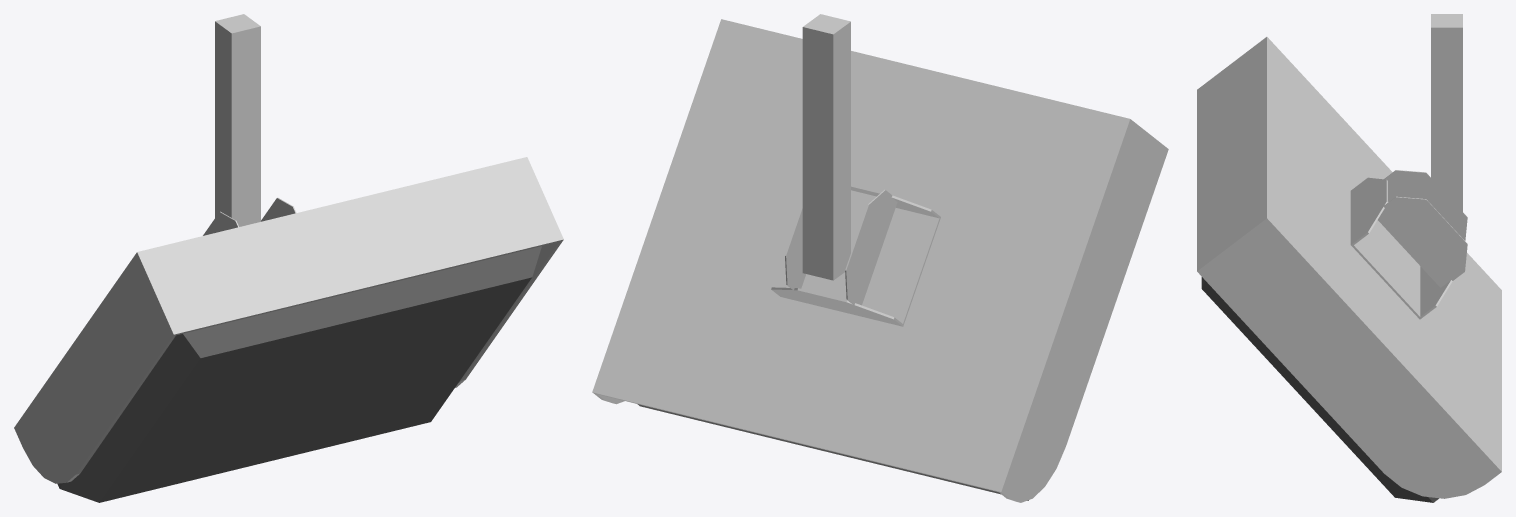
The model's file is etc_01_01.glb.
The picture shows the model from 3 angles, left to right: view 1: azimuth 30°, elevation 25°; view 2: azimuth 150°, elevation 25°; view 3: azimuth 270°, elevation 25°; orthographic projection. The views are drawn at different scales.
Visible parts, largest first — view 1: 立方体.001; view 2: 立方体.001; view 3: 立方体.001.
Part boxes in pixels (x1=…): 立方体.001: x1=14, y1=14, x2=563, y2=502; 立方体.001: x1=592, y1=14, x2=1168, y2=502; 立方体.001: x1=1197, y1=14, x2=1501, y2=502.
Bounding box in the file's own units: 0.4 × 0.4103 × 0.2837.
2 materials, 2 textured.
